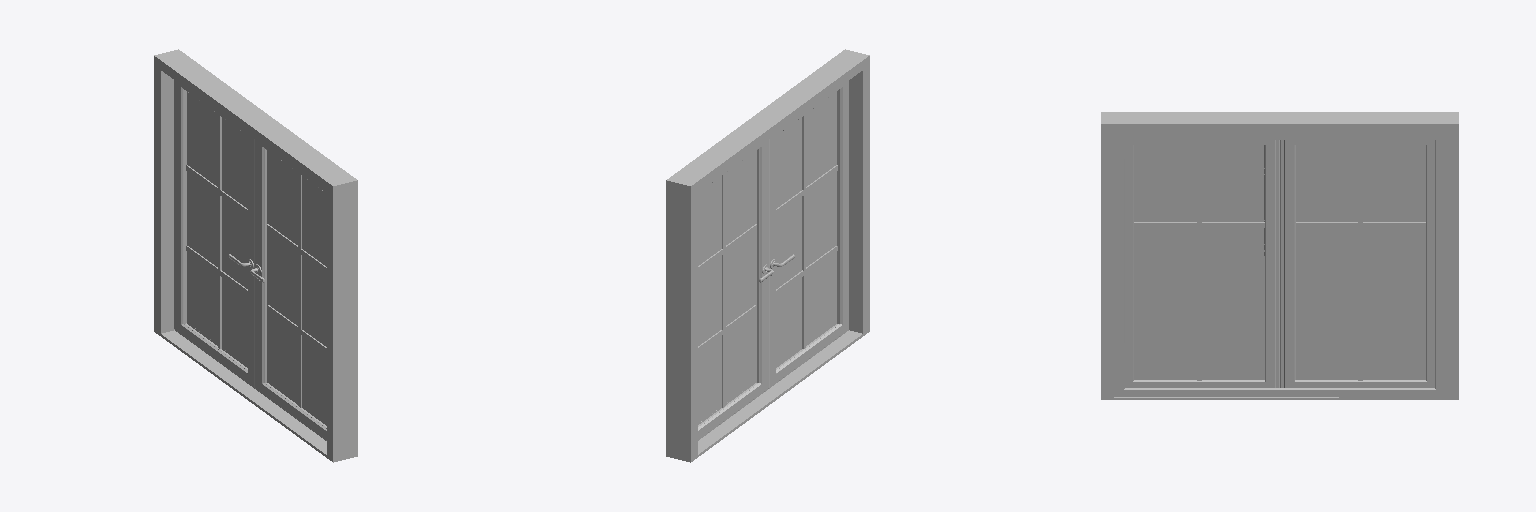
The model's file is window2.obj.
3 views of the same model, side by side, from view 1: azimuth 30°, elevation 25°; view 2: azimuth 150°, elevation 25°; view 3: azimuth 270°, elevation 25° (orthographic).
Visible parts, largest first — view 1: 16639_12_Pane_Casement_Window-White_V1.002; view 2: 16639_12_Pane_Casement_Window-White_V1.002; view 3: 16639_12_Pane_Casement_Window-White_V1.002.
Part boxes in pixels (x1,y1,x2,y2): 16639_12_Pane_Casement_Window-White_V1.002: (154,49,357,462); 16639_12_Pane_Casement_Window-White_V1.002: (666,49,869,462); 16639_12_Pane_Casement_Window-White_V1.002: (1101,112,1458,399).
Bounding box in the file's own units: 0.127 × 1.34 × 1.57.